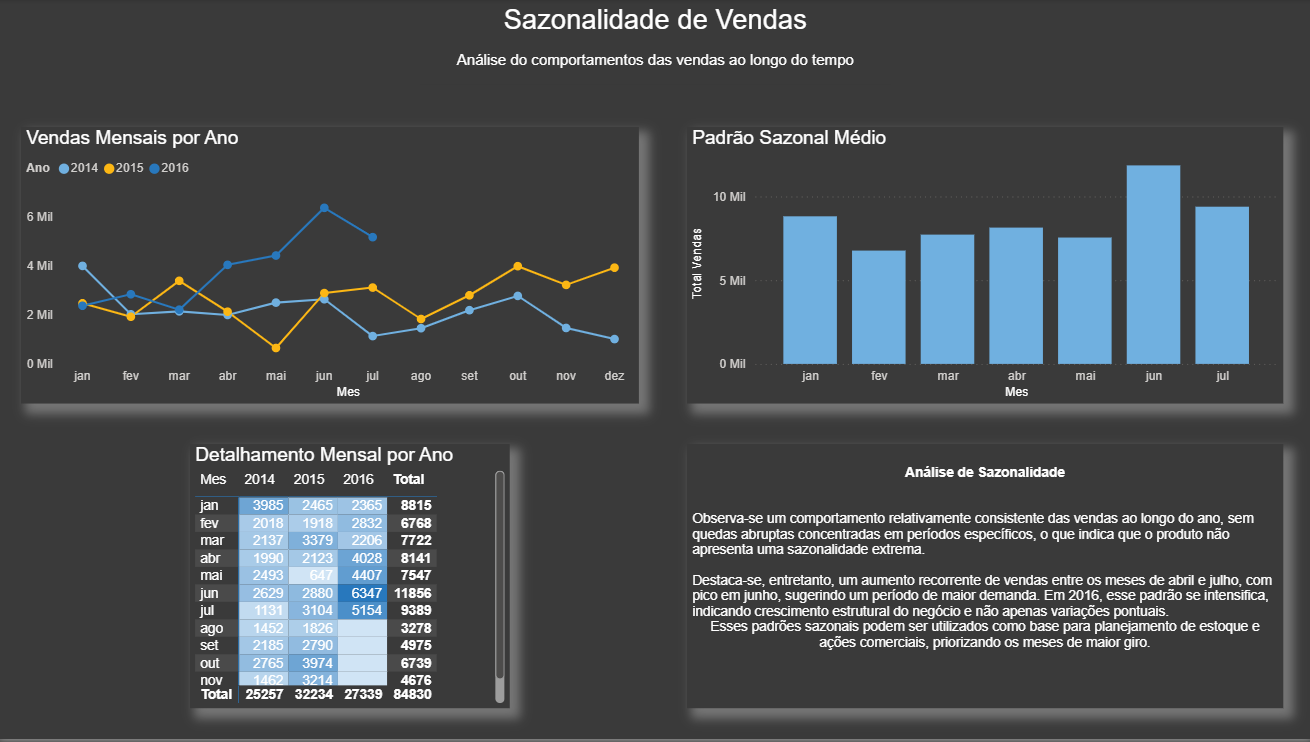

Layout of this report page (visuals, bound fields, positions):
{"tool":"powerbi","page":{"name":"Sazonalidade","canvas":[1280,720],"ordinal":1},"visuals":[{"type":"lineChart","title":"Vendas Mensais por Ano","fields":{"Y":["Retail Sales Forecasting.Total Vendas"],"Series":["Tabela Calendario.Date.Variation.Hierarquia de datas.Ano"],"Category":["Tabela Calendario.Mes"]},"box":[23.3,124.5,601.1,269.4],"z":0},{"type":"textbox","box":[411.2,0,457.9,82.6],"z":1000},{"type":"columnChart","title":"Padrão Sazonal Médio","fields":{"Category":["Tabela Calendario.Mes"],"Y":["Retail Sales Forecasting.Total Vendas"]},"box":[671.1,124.5,579.7,269.4],"z":2000},{"type":"pivotTable","title":"Detalhamento Mensal por Ano","fields":{"Rows":["Tabela Calendario.Mes"],"Columns":["Tabela Calendario.Date.Variation.Hierarquia de datas.Ano"],"Values":["Retail Sales Forecasting.Total Vendas"]},"box":[187.3,432.6,310.6,256.8],"z":3000},{"type":"textbox","box":[671.1,432.8,579.7,256.8],"z":4000}]}

Visuals, with their boxes in screenshot pixels (x1, y1, x2, y2), scaled from the page's 1280x720 canvas onto the 1310x742 screenshot:
"Vendas Mensais por Ano" lineChart: (24, 128, 639, 406)
textbox: (421, 0, 889, 85)
"Padrão Sazonal Médio" columnChart: (687, 128, 1280, 406)
"Detalhamento Mensal por Ano" pivotTable: (192, 446, 510, 710)
textbox: (687, 446, 1280, 711)
